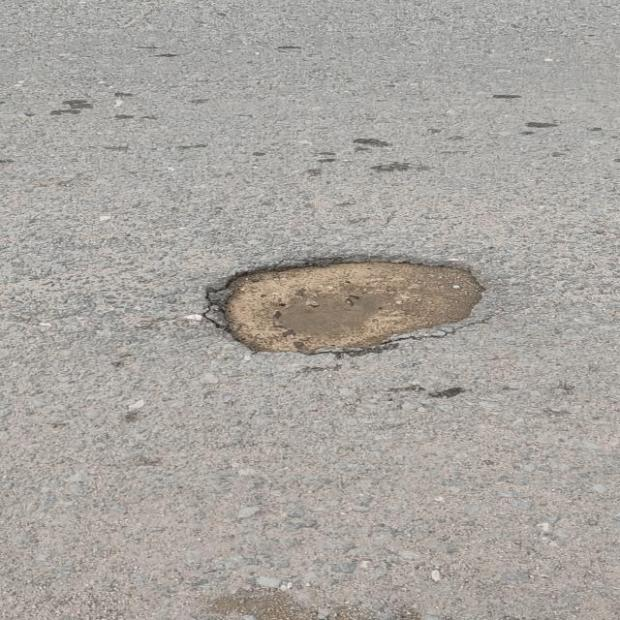lubang: (207, 259, 483, 353)
